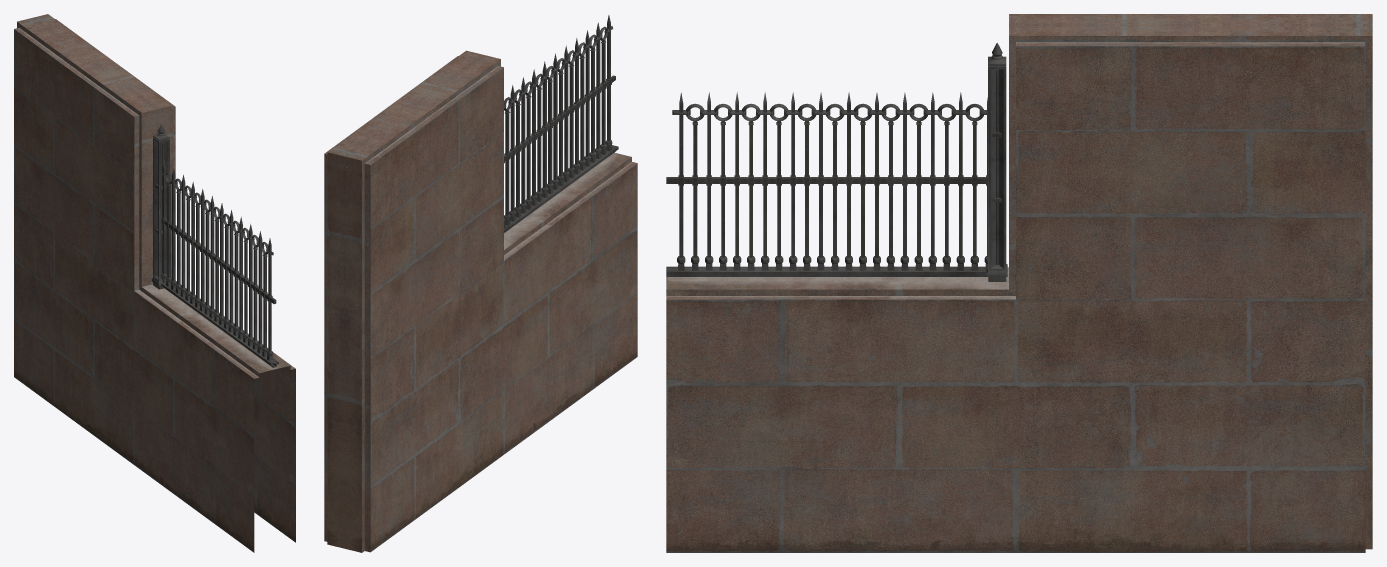
The model's file is SM_Fence_01_eND.fbx.
3 renders of one model, left to right at view 1: azimuth 30°, elevation 25°; view 2: azimuth 150°, elevation 25°; view 3: azimuth 270°, elevation 25°, orthographic. The views are drawn at different scales.
Parts seen in each view (by area): view 1: SM_Fence_01_eND_LOD0; view 2: SM_Fence_01_eND_LOD0; view 3: SM_Fence_01_eND_LOD0.
Boxes of the visible parts, left/top/right/bottom form: SM_Fence_01_eND_LOD0: left=14, top=14, right=295, bottom=552; SM_Fence_01_eND_LOD0: left=324, top=15, right=637, bottom=552; SM_Fence_01_eND_LOD0: left=666, top=14, right=1372, bottom=552.
Size of the model in its own units: 20 by 202 by 162.
Materials: 2 (2 with a texture image).
